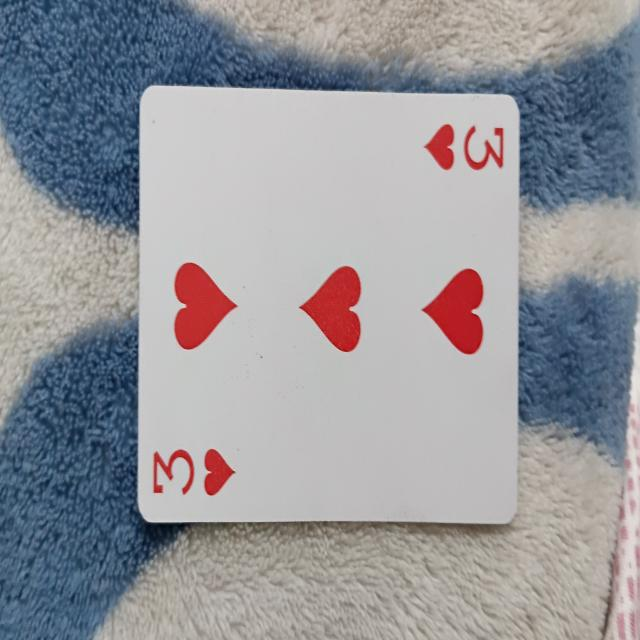3H: (136, 86, 517, 522)
